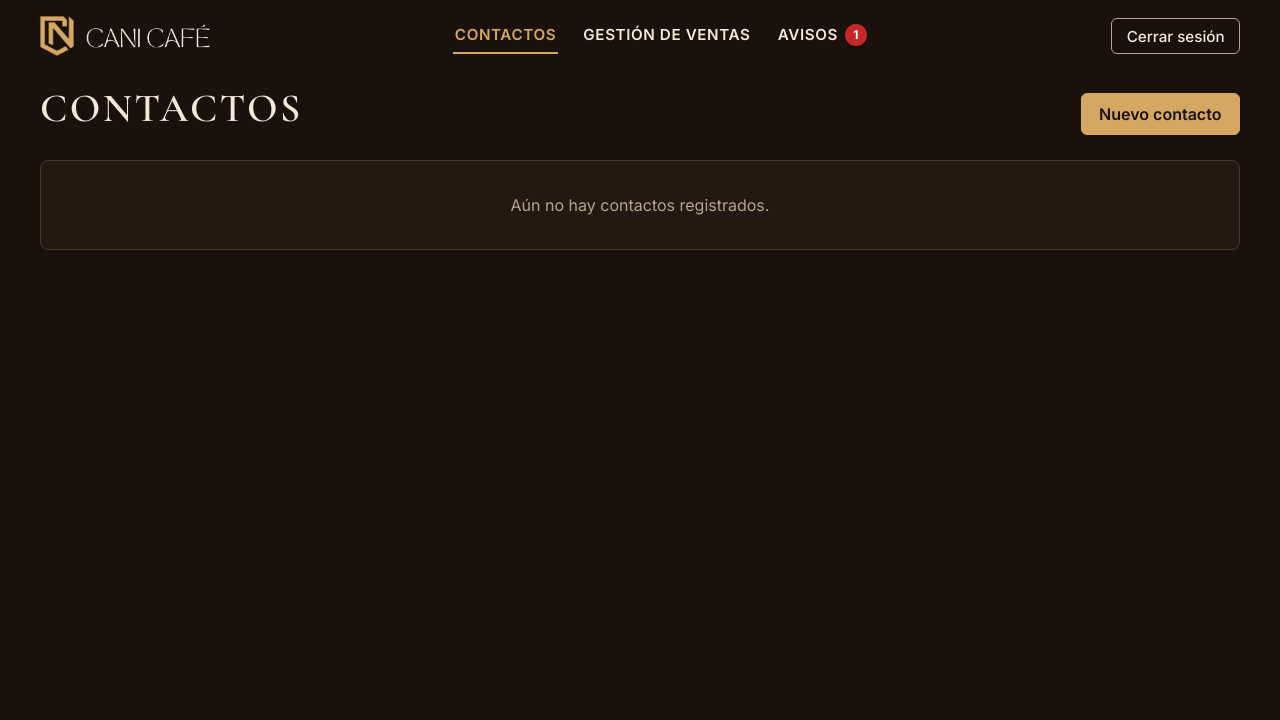
Test: HU-316 criterio 1: círculo rojo en la barra › se recalcula al cambiar de pantalla: al desaparecer los avisos el círculo se va
expect the text "1" is shown: met, box x1=845 y1=24 x2=867 y2=46
Click the link "Gestión de ventas" at (667, 34), box x1=583 y1=25 x2=750 y2=44
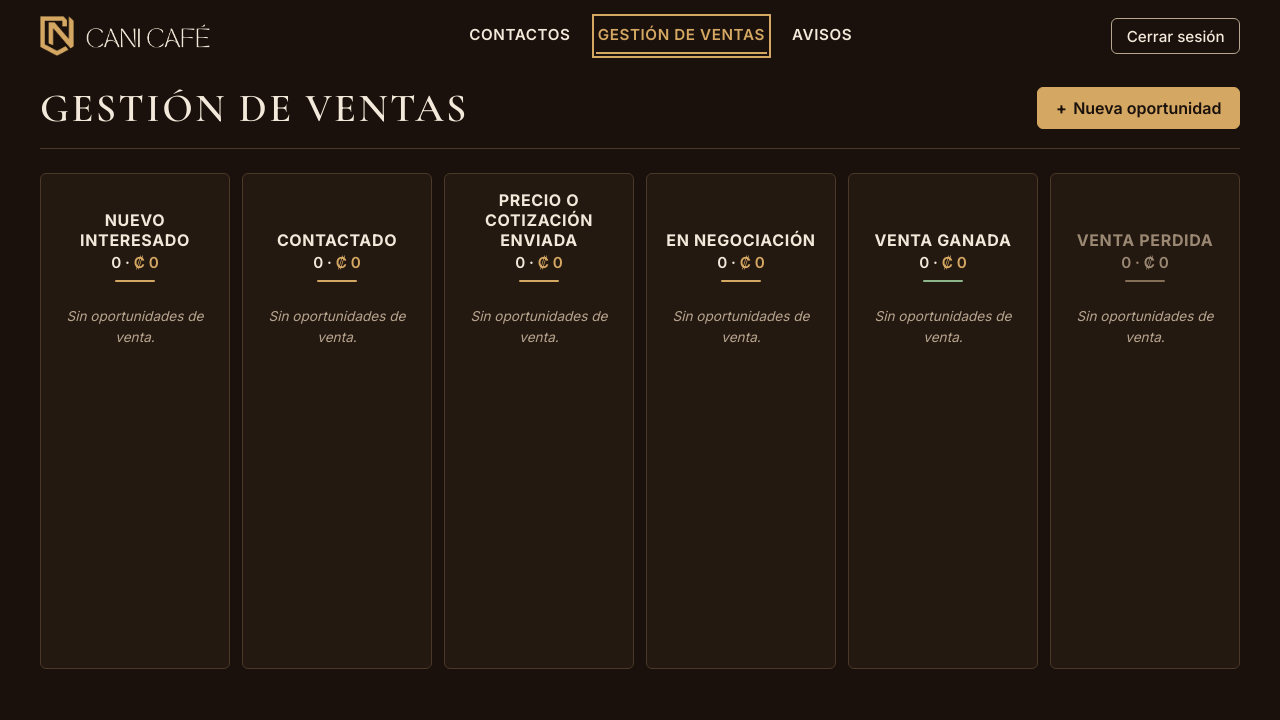
expect the text with class "topbar-count" is gone: met
